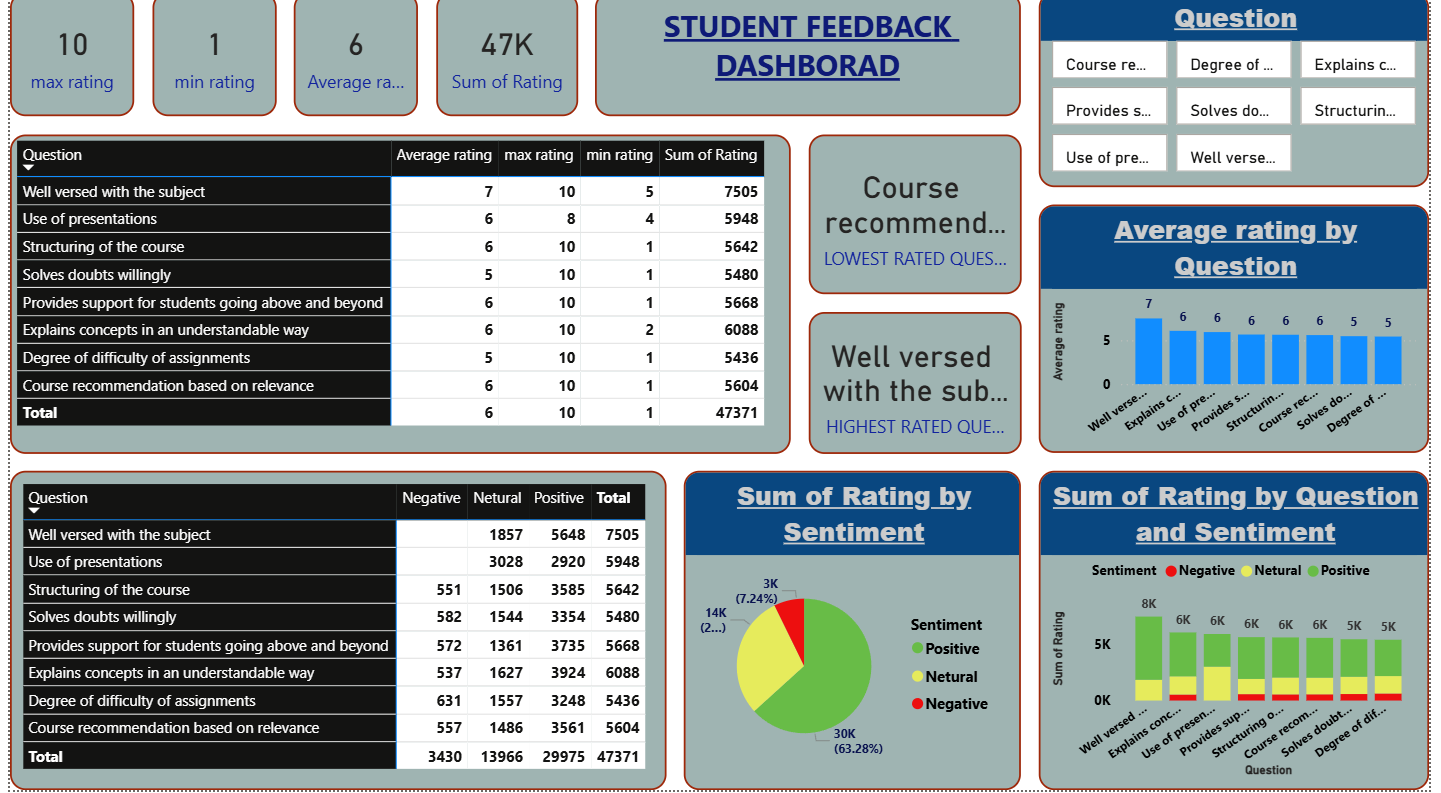

The page's visual inventory and layout, read from the dashboard file:
{"tool":"powerbi","page":{"name":"Page 1","canvas":[1280,720],"ordinal":0},"visuals":[{"type":"columnChart","fields":{"Category":["student_feedback(1).Question"],"Series":["student_feedback(1).Sentiment"],"Y":["Sum(student_feedback(1).Rating)"]},"box":[928,432,352,288],"z":0},{"type":"columnChart","fields":{"Y":["student_feedback(1).Average rating"],"Category":["student_feedback(1).Question"]},"box":[928,192,352,224],"z":1000},{"type":"pieChart","fields":{"Y":["Sum(student_feedback(1).Rating)"],"Category":["student_feedback(1).Sentiment"]},"box":[608,432,304,288],"z":2000},{"type":"card","fields":{"Values":["student_feedback(1).Average rating"]},"box":[256,0,112,112],"z":3000},{"type":"card","fields":{"Values":["Sum(student_feedback(1).Rating)"]},"box":[384,0,128,112],"z":4000},{"type":"card","fields":{"Values":["student_feedback(1).max rating"]},"box":[0,0,112,112],"z":5000},{"type":"card","fields":{"Values":["student_feedback(1).min rating"]},"box":[128,0,112,112],"z":6000},{"type":"advancedSlicerVisual","fields":{"Values":["student_feedback(1).Question"]},"box":[928,0,352,176],"z":7000},{"type":"pivotTable","fields":{"Rows":["student_feedback(1).Question"],"Columns":["student_feedback(1).Sentiment"],"Values":["Sum(student_feedback(1).Rating)"]},"box":[0,432,592,288],"z":8000},{"type":"pivotTable","fields":{"Rows":["student_feedback(1).Question"],"Values":["student_feedback(1).Average rating","student_feedback(1).max rating","student_feedback(1).min rating","Sum(student_feedback(1).Rating)"]},"box":[0,128,704,288],"z":9000},{"type":"card","fields":{"Values":["student_feedback(1).LOWEST RATED QUESTION.."]},"box":[720,128,192,144],"z":10000},{"type":"card","fields":{"Values":["student_feedback(1).HIGHEST RATED QUESTION.."]},"box":[720,288,192,128],"z":11000},{"type":"textbox","box":[528,0,384,112],"z":12000}]}

Visuals, with their boxes in screenshot pixels (x1, y1, x2, y2), scaled from the page's 1280x720 canvas onto the 1441x793 screenshot:
columnChart - student_feedback(1).Question x student_feedback(1).Sentiment: bbox=(1045, 476, 1440, 792)
columnChart - student_feedback(1).Average rating x student_feedback(1).Question: bbox=(1045, 211, 1440, 458)
pieChart - Sum(student_feedback(1).Rating) x student_feedback(1).Sentiment: bbox=(684, 476, 1027, 792)
card - student_feedback(1).Average rating: bbox=(288, 0, 414, 123)
card - Sum(student_feedback(1).Rating): bbox=(432, 0, 576, 123)
card - student_feedback(1).max rating: bbox=(0, 0, 126, 123)
card - student_feedback(1).min rating: bbox=(144, 0, 270, 123)
advancedSlicerVisual - student_feedback(1).Question: bbox=(1045, 0, 1440, 194)
pivotTable - student_feedback(1).Question x student_feedback(1).Sentiment: bbox=(0, 476, 666, 792)
pivotTable - student_feedback(1).Question x student_feedback(1).Average rating: bbox=(0, 141, 793, 458)
card - student_feedback(1).LOWEST RATED QUESTION..: bbox=(811, 141, 1027, 300)
card - student_feedback(1).HIGHEST RATED QUESTION..: bbox=(811, 317, 1027, 458)
textbox: bbox=(594, 0, 1027, 123)
